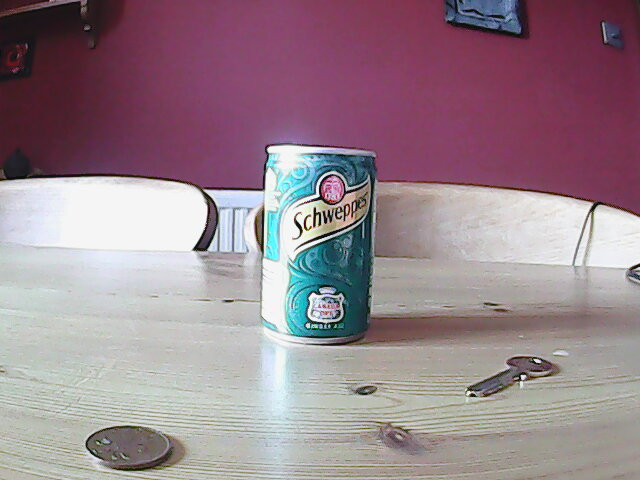Can: (257, 140, 379, 350)
Coin: (80, 422, 176, 473)
Key: (460, 353, 555, 402)
